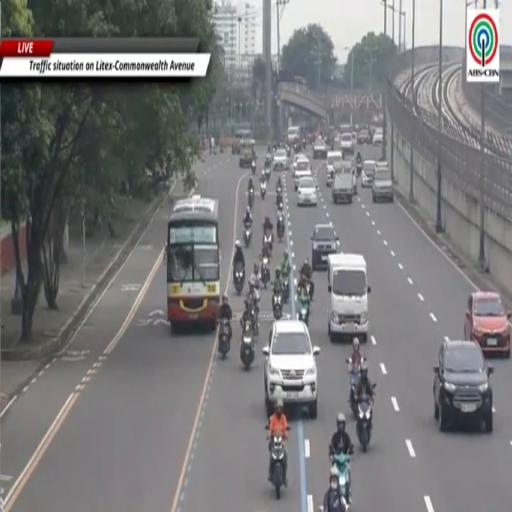bus: (166, 196, 221, 329)
car: (263, 319, 320, 419), (433, 341, 493, 433), (464, 292, 510, 357), (312, 223, 338, 270), (372, 163, 393, 202), (297, 176, 317, 205), (294, 158, 312, 190), (327, 151, 342, 186), (272, 148, 290, 171), (292, 153, 308, 177), (361, 160, 375, 187), (340, 133, 354, 154), (313, 138, 327, 159), (287, 126, 300, 145), (372, 131, 383, 146), (357, 130, 369, 143), (352, 167, 357, 195), (352, 132, 356, 143)
motorcycle: (331, 453, 350, 507), (270, 432, 285, 499), (357, 395, 372, 452), (346, 358, 360, 418), (240, 322, 254, 370), (243, 303, 258, 337), (219, 318, 229, 359), (232, 264, 244, 296), (261, 256, 270, 289), (297, 301, 309, 325), (301, 275, 312, 300), (263, 231, 272, 258), (273, 293, 282, 319), (277, 214, 284, 242), (255, 283, 260, 318), (283, 277, 290, 302), (244, 224, 251, 247), (248, 189, 254, 209), (276, 188, 282, 207), (265, 163, 270, 181), (261, 182, 266, 199), (357, 162, 362, 176), (276, 186, 282, 196), (286, 146, 291, 157), (252, 162, 255, 174)
truck: (332, 162, 353, 203)
